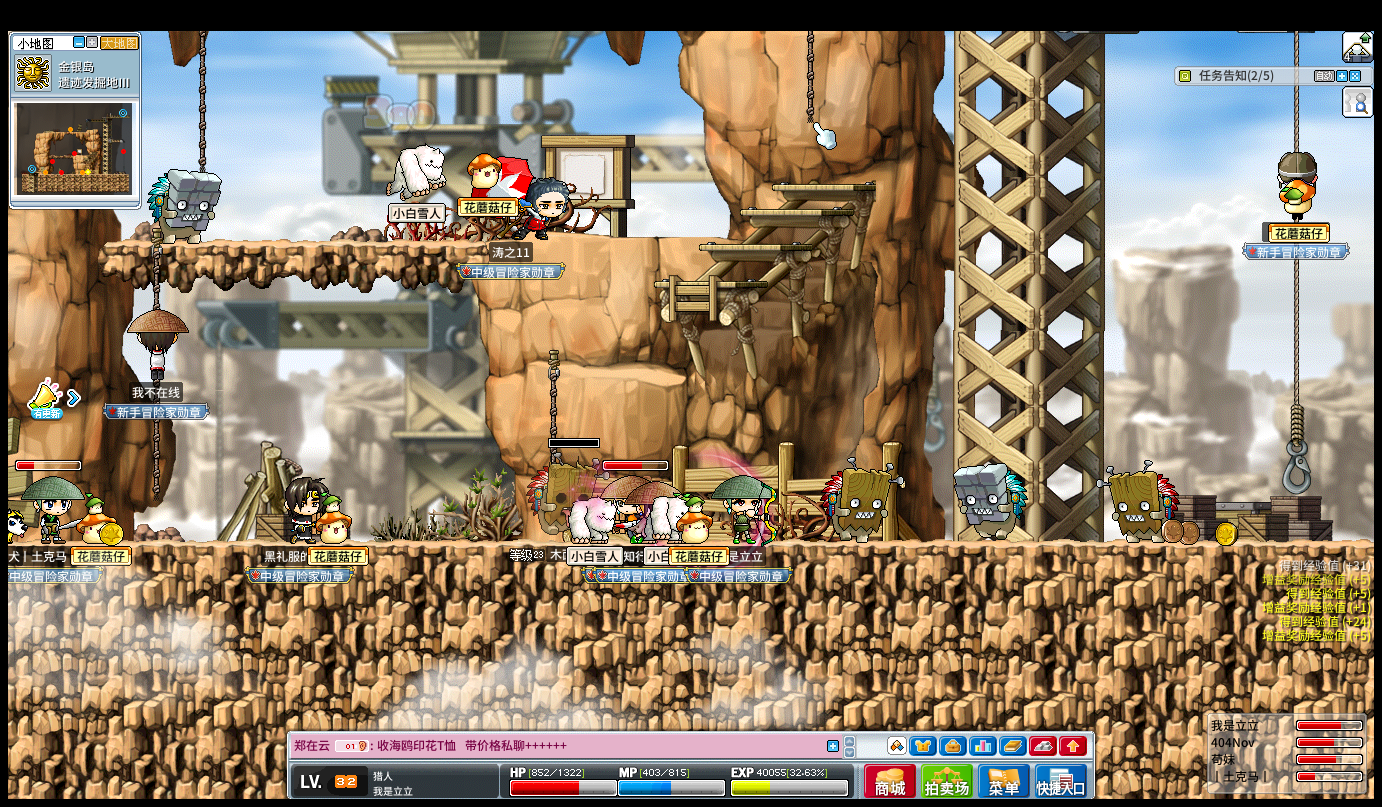floor: (131, 537, 1374, 551), (98, 238, 480, 250), (580, 364, 687, 387), (593, 232, 734, 241), (698, 243, 813, 252), (741, 207, 855, 216), (652, 281, 768, 288), (772, 183, 876, 190)
monster: (822, 459, 903, 542), (1103, 463, 1179, 543), (146, 168, 223, 244), (953, 464, 1027, 542), (528, 457, 577, 538)
rope: (1293, 257, 1304, 412), (548, 349, 561, 451), (198, 33, 207, 172), (151, 420, 164, 503), (803, 31, 814, 124), (151, 233, 164, 308), (806, 31, 815, 123), (151, 418, 160, 500), (1293, 31, 1299, 151), (1289, 400, 1304, 445)
